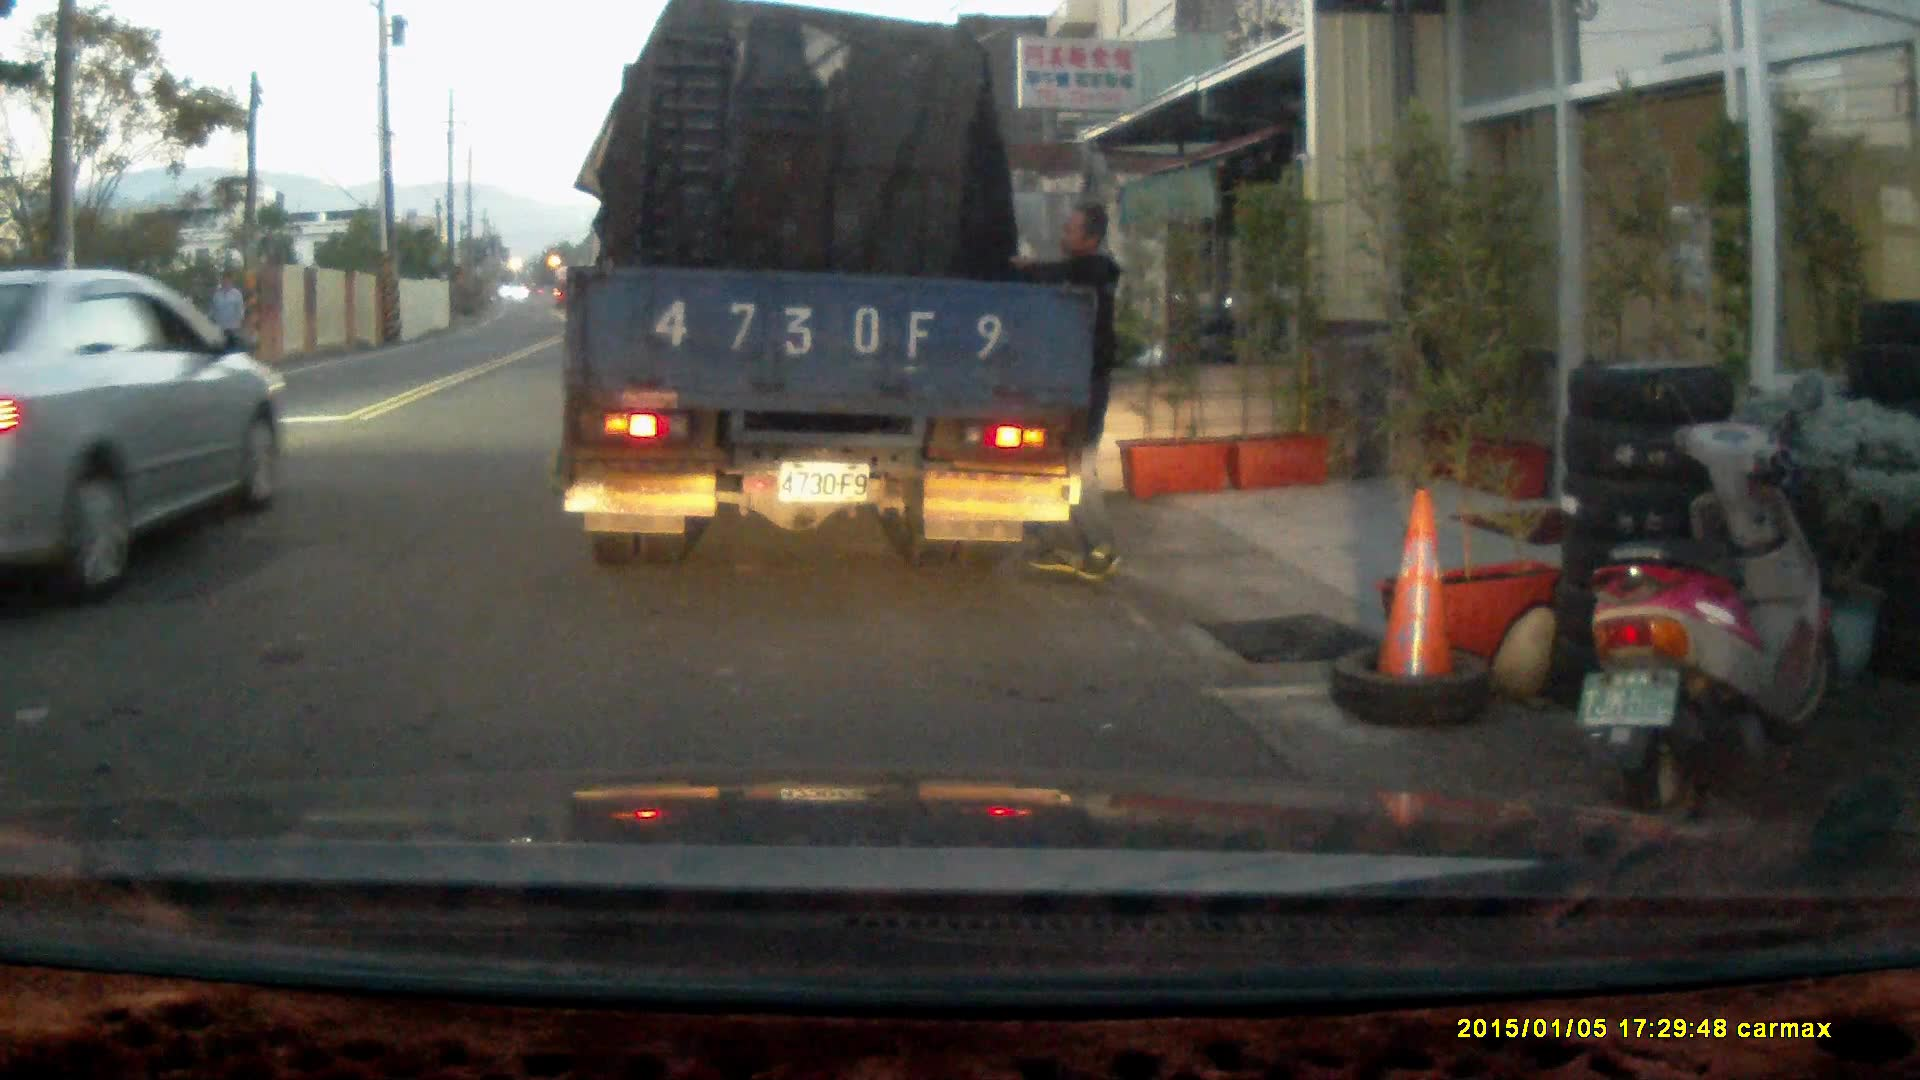pedestrian: (1001, 199, 1125, 582), (206, 270, 246, 383)
vehicle: (565, 23, 1097, 572), (1, 263, 295, 621)
